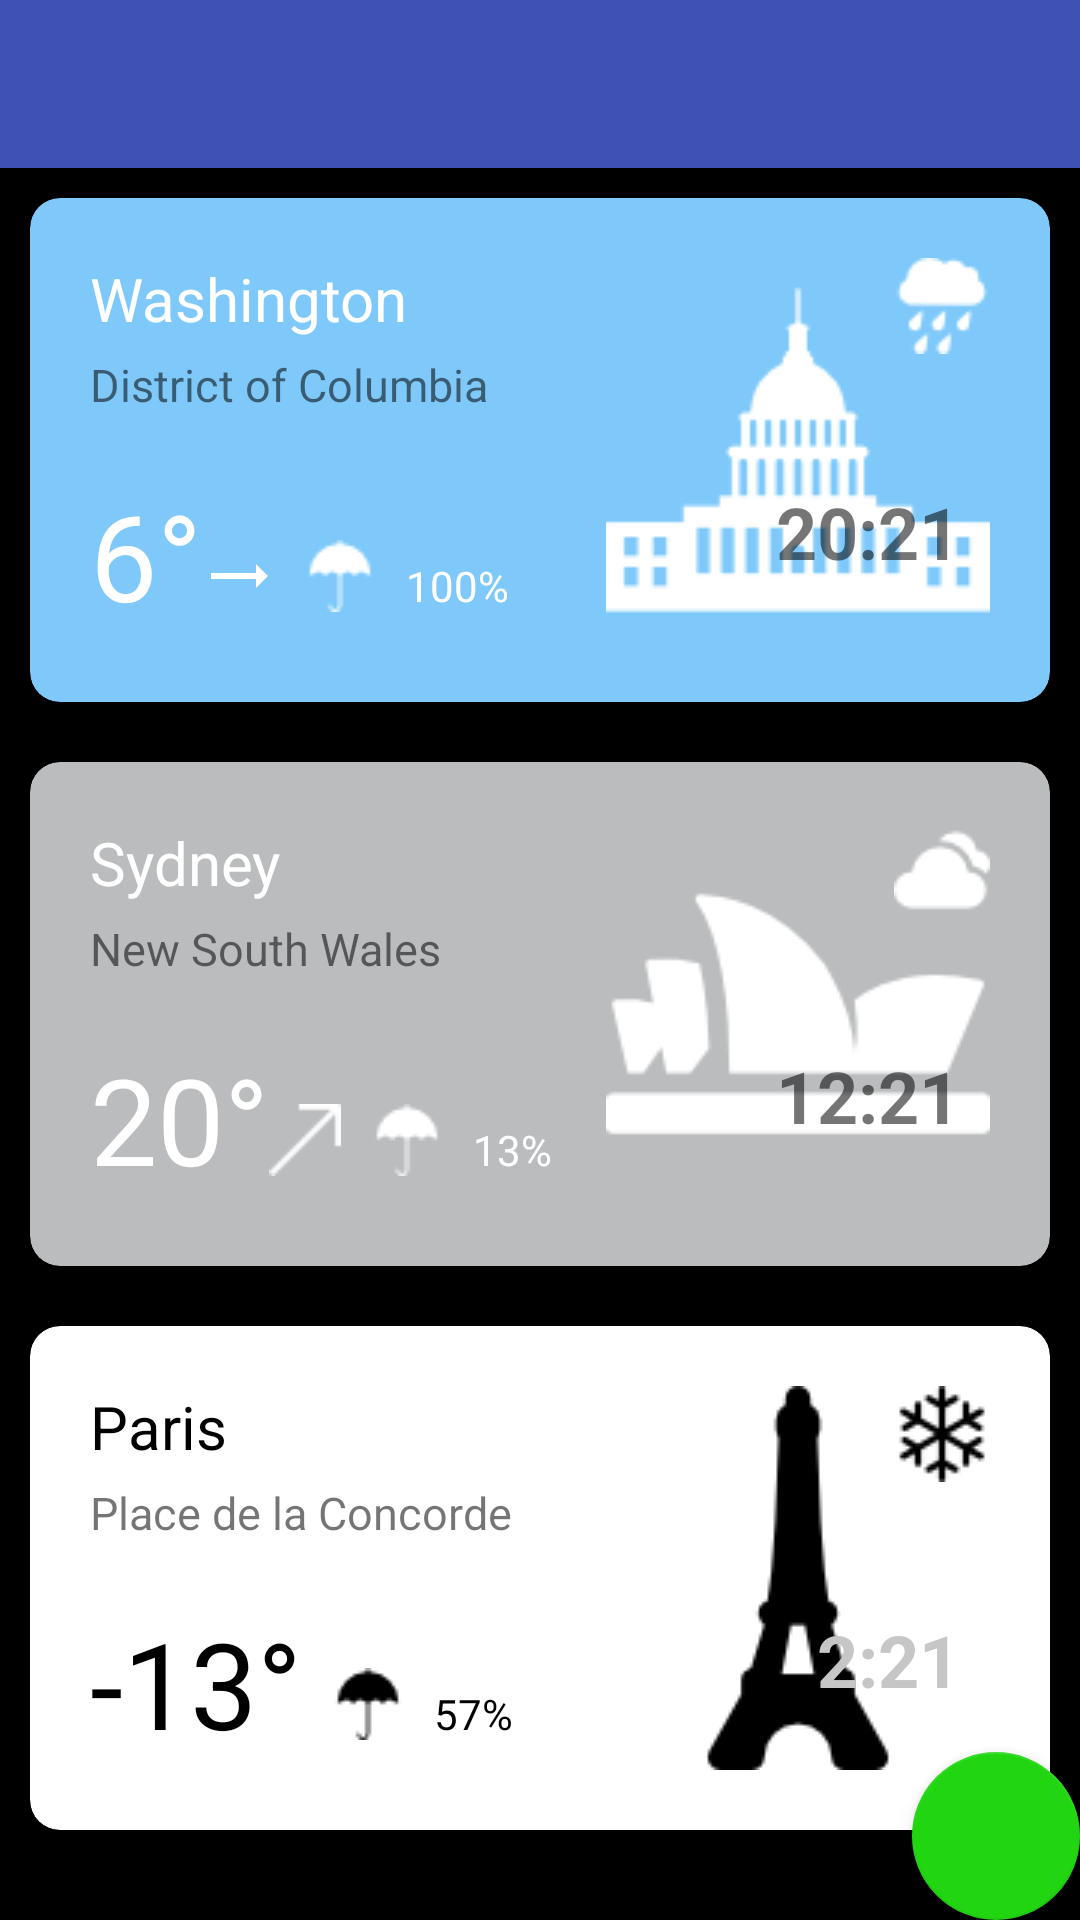

Icons on this 1080x1920 Android screen, each with the point to tap as [x,y]:
umbrella: [340,576], [407,1141]
umbrellablack: [368,1704]
